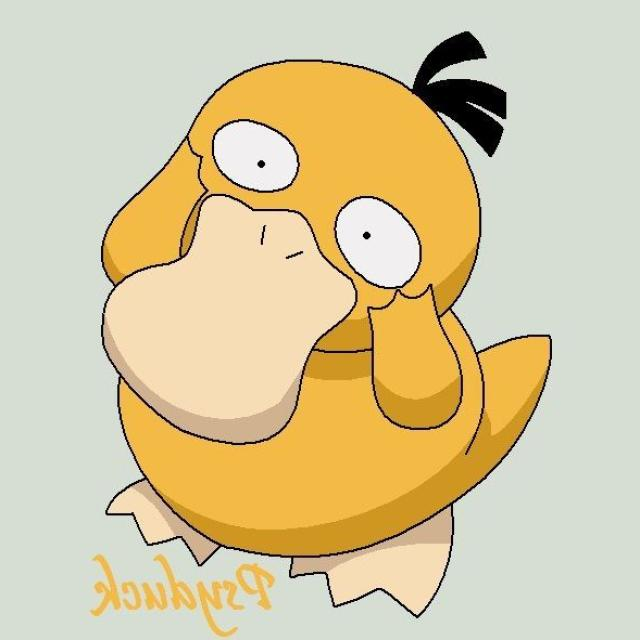Psyduck: (106, 62, 507, 564)
